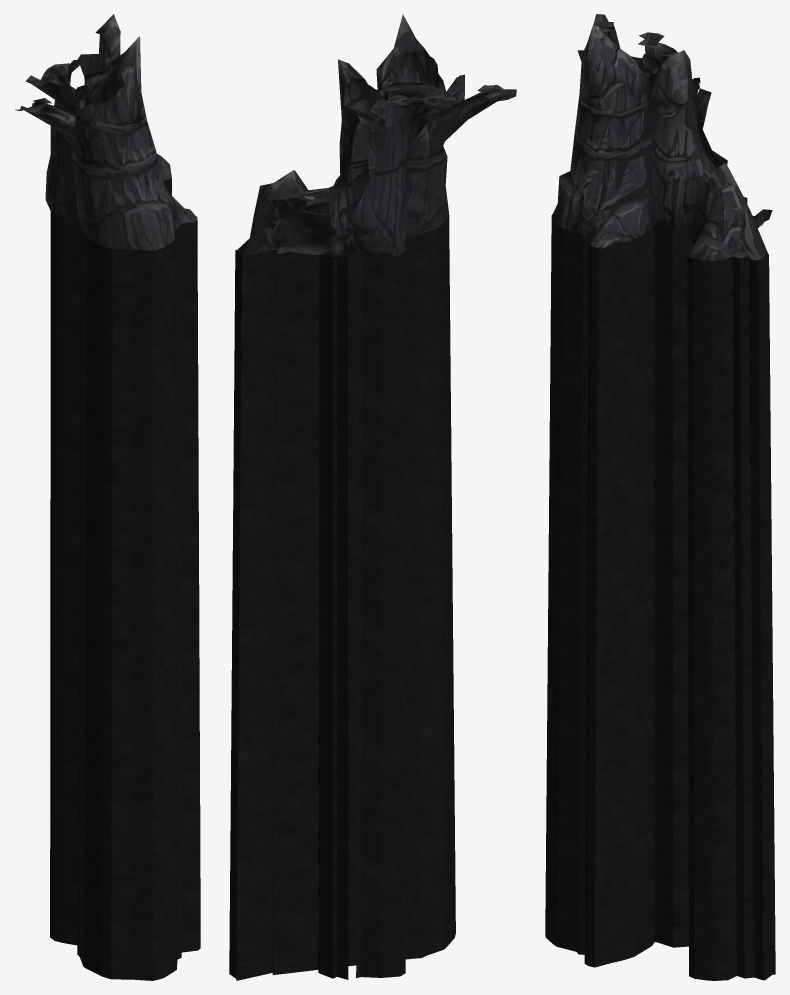
The model's file is horaro_rock_pillar_2.glb.
3 views of the same model, side by side, from view 1: azimuth 30°, elevation 25°; view 2: azimuth 150°, elevation 25°; view 3: azimuth 270°, elevation 25° (orthographic).
Visible parts, largest first — view 1: horaro_rock_pillar_2_L1_foundation, horaro_rock_pillar_2; view 2: horaro_rock_pillar_2_L1_foundation, horaro_rock_pillar_2; view 3: horaro_rock_pillar_2_L1_foundation, horaro_rock_pillar_2.
Boxes of the visible parts, x1,y1,x2,y2 form: horaro_rock_pillar_2_L1_foundation: [50, 177, 200, 980]; horaro_rock_pillar_2: [15, 14, 197, 250]; horaro_rock_pillar_2_L1_foundation: [229, 213, 455, 980]; horaro_rock_pillar_2: [236, 14, 516, 258]; horaro_rock_pillar_2_L1_foundation: [545, 215, 775, 980]; horaro_rock_pillar_2: [551, 14, 772, 260].
Size of the model in its own units: 3.71 by 15.67 by 3.58.
Materials: 2 (2 with a texture image).
